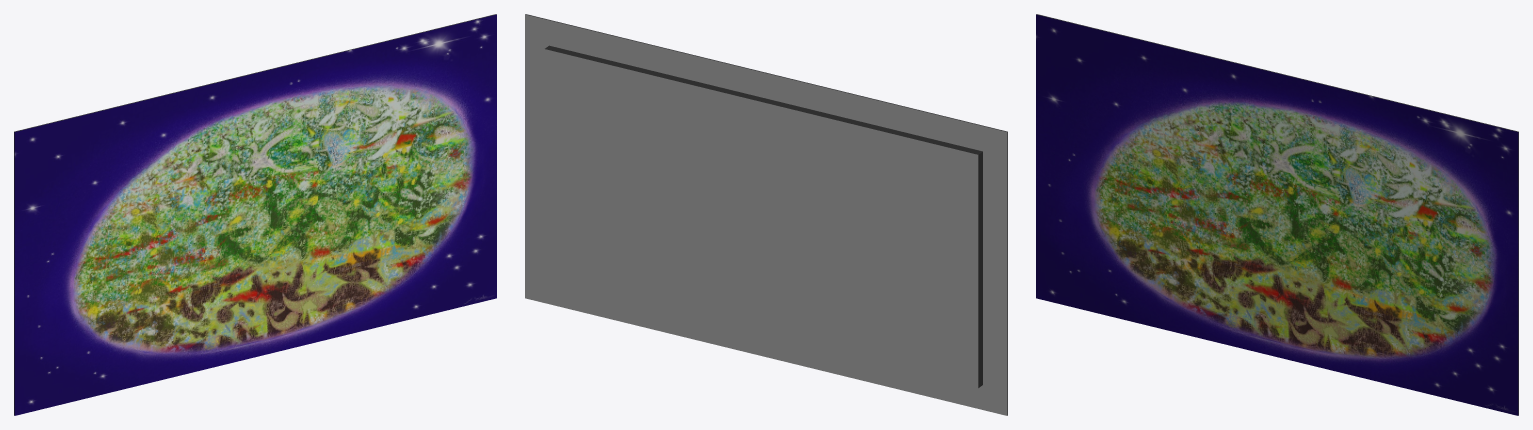
Rendered from hz007_grand_dibond.glb.
3 renders of one model, left to right at view 1: azimuth 30°, elevation 25°; view 2: azimuth 150°, elevation 25°; view 3: azimuth 330°, elevation 25°, orthographic.
Parts seen in each view (by area): view 1: hz007_grand_dibond; view 2: hz007_grand_dibond; view 3: hz007_grand_dibond.
Boxes of the visible parts, bbox=[...] form: hz007_grand_dibond: bbox=[14, 14, 496, 415]; hz007_grand_dibond: bbox=[525, 14, 1007, 415]; hz007_grand_dibond: bbox=[1036, 14, 1518, 415].
Bounding box in the file's own units: 1.2 × 0.675 × 0.023.
Materials: 4 (1 with a texture image).
